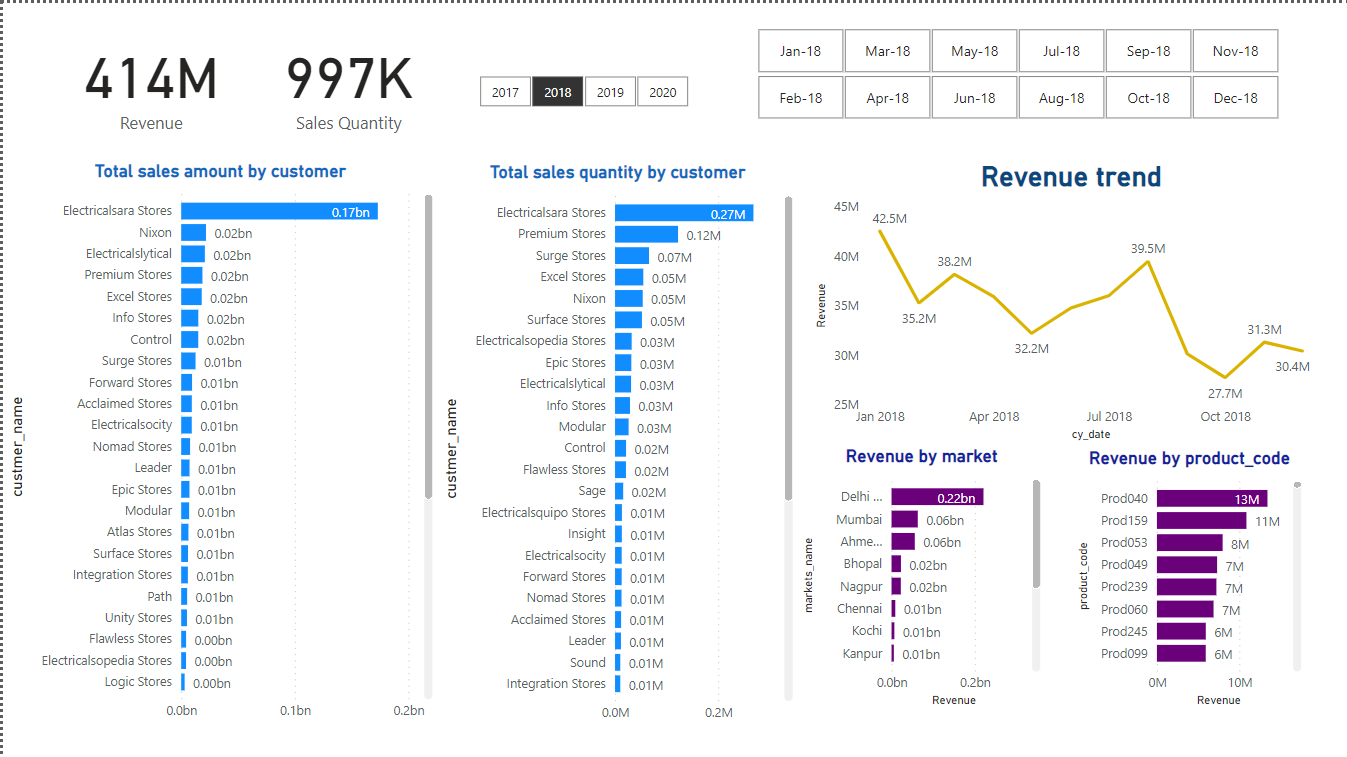

This screenshot's page, from the dashboard's own definition file:
{"tool":"powerbi","page":{"name":"Page 1","canvas":[1280,720],"ordinal":0},"visuals":[{"type":"card","fields":{"Values":["BaseMeasures.total_sales_qty"]},"box":[245.7,18.6,168.6,114.3],"z":0},{"type":"barChart","title":"Total sales amount by customer","fields":{"Y":["BaseMeasures.total_sales_amount"],"Category":["sales customers.custmer_name"]},"box":[0,150,414,542],"z":2000},{"type":"barChart","title":"Total sales quantity by customer","fields":{"Y":["BaseMeasures.total_sales_qty"],"Category":["sales customers.custmer_name"]},"box":[414,152,344,542],"z":3000},{"type":"slicer","fields":{"Values":["sales date.year"]},"box":[428,64,248,42],"z":3001},{"type":"slicer","fields":{"Values":["sales date.cy_date"]},"box":[693.3,18.3,545,98.3],"z":3002},{"type":"barChart","title":"Revenue by market","fields":{"Y":["BaseMeasures.Revenue"],"Category":["sales markets.markets_name"]},"box":[756.7,421.7,236.7,253.3],"z":3004},{"type":"card","fields":{"Values":["BaseMeasures.Revenue"]},"box":[18.6,0,245.7,150],"z":3005},{"type":"barChart","fields":{"Y":["BaseMeasures.Revenue"],"Category":["sales products.product_code"]},"box":[1018.3,423.3,223.3,251.7],"z":3006},{"type":"lineChart","title":"Revenue trend","fields":{"Y":["BaseMeasures.Revenue"],"Category":["sales date.cy_date"]},"box":[768.3,150,498.3,271.7],"z":3007}]}

Visuals, with their boxes in screenshot pixels (x1, y1, x2, y2), scaled from the page's 1280x720 canvas onto the 1347x757 screenshot:
card - BaseMeasures.total_sales_qty: 259/20/436/140
"Total sales amount by customer" barChart: 0/158/436/728
"Total sales quantity by customer" barChart: 436/160/798/730
slicer - sales date.year: 450/67/711/111
slicer - sales date.cy_date: 730/19/1303/123
"Revenue by market" barChart: 796/443/1045/710
card - BaseMeasures.Revenue: 20/0/278/158
barChart - BaseMeasures.Revenue x sales products.product_code: 1072/445/1307/710
"Revenue trend" lineChart: 809/158/1333/443
